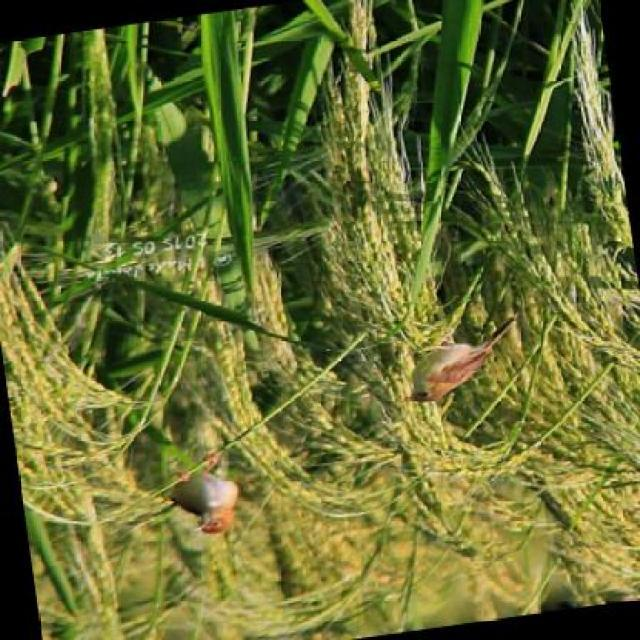Bird: (400, 312, 518, 405), (170, 450, 242, 536)
